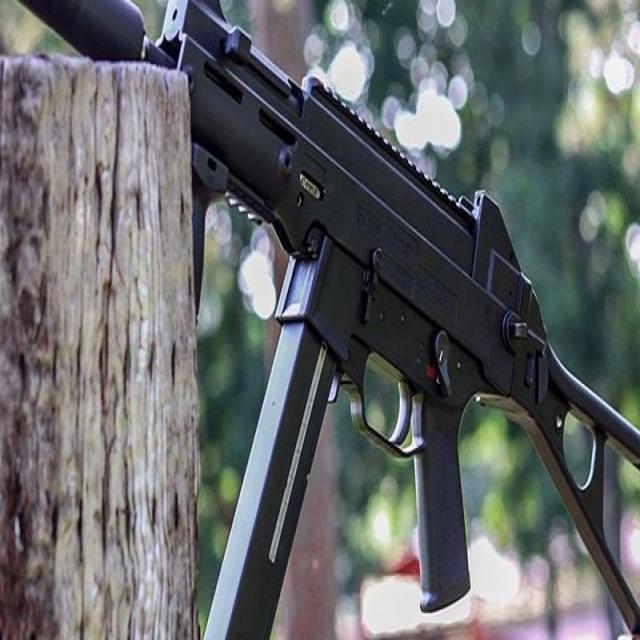Gun: (11, 0, 640, 640)
